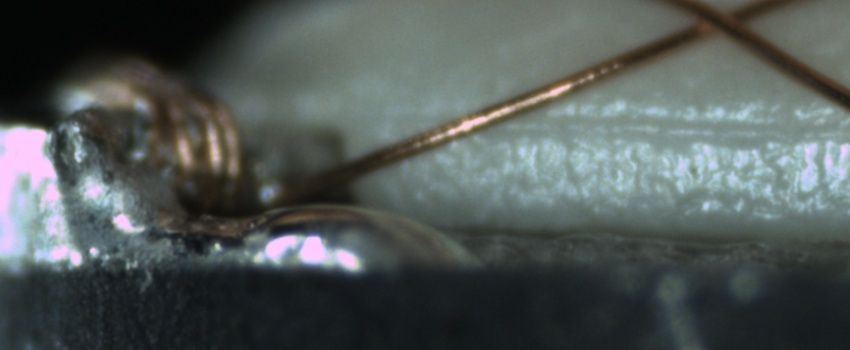CL: (672, 0, 758, 46)
DL: (397, 95, 850, 156)
TE: (72, 53, 250, 213)
